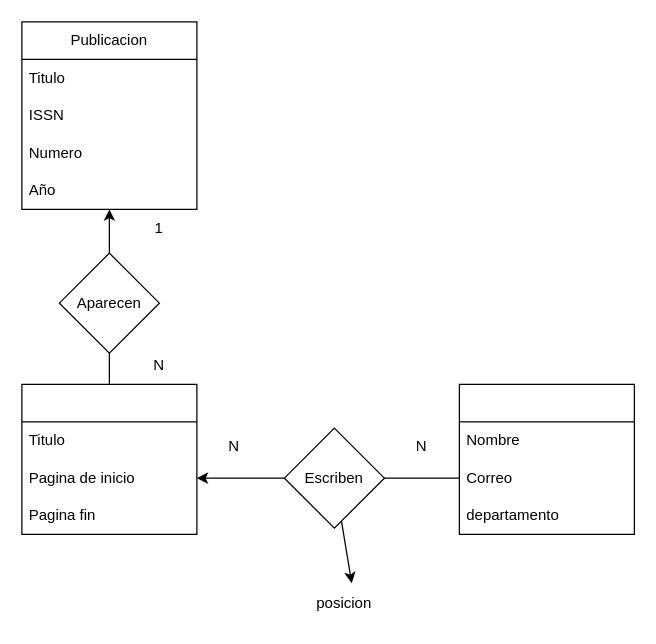
Some shapes in this 656 by 644 pixel diagram are drawn without their labels. The box of each missing label's shape, as (x1, y1, x2, y2) in pixels:
Articulo: (21, 383, 197, 534)
Autores: (458, 383, 634, 534)
